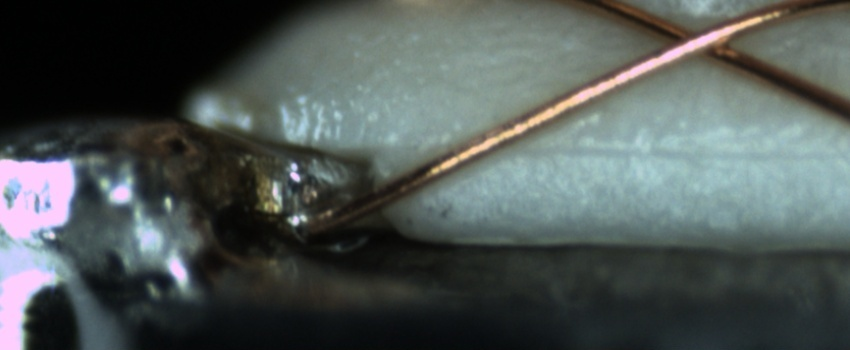CL: (640, 11, 750, 70)
DL: (426, 120, 850, 182)
